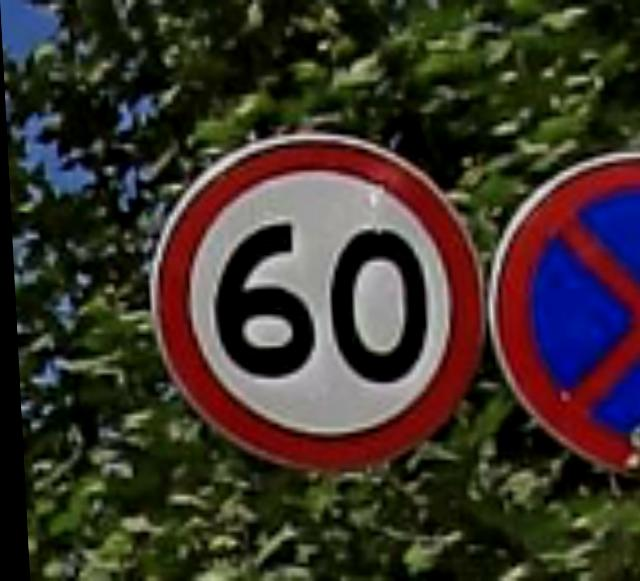limit60: (131, 97, 492, 466)
